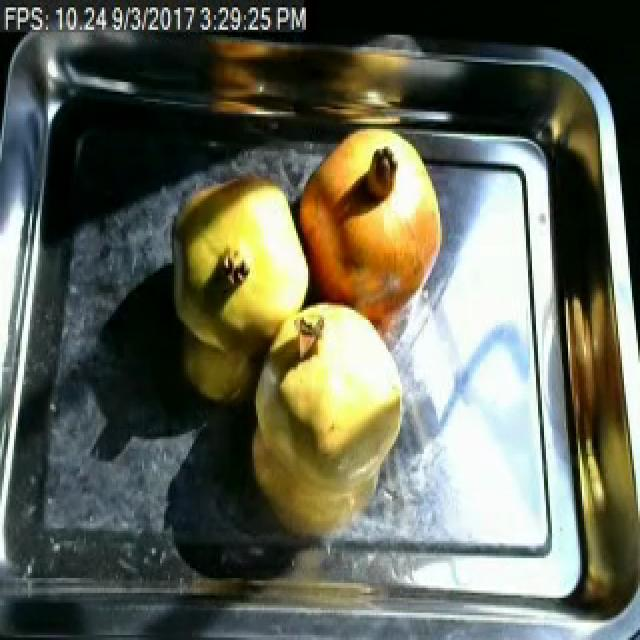fruit: (240, 288, 416, 558), (286, 121, 452, 322)
